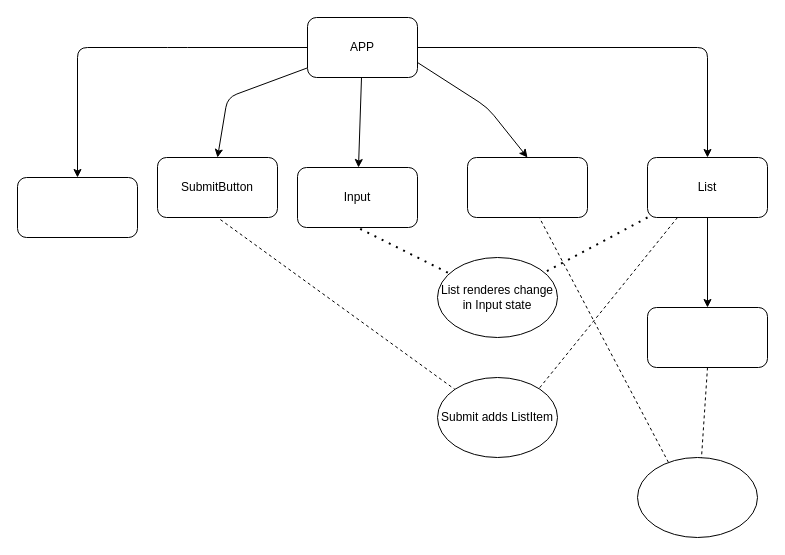
Image size: 785x555. Some labels were removed from this diagram. The shapes that lost their labels are listed below. From the top down, each one's centre as x and y in pixels, then its label:
(x=77, y=207): Header
(x=527, y=187): DeleteButton
(x=707, y=337): ListItem
